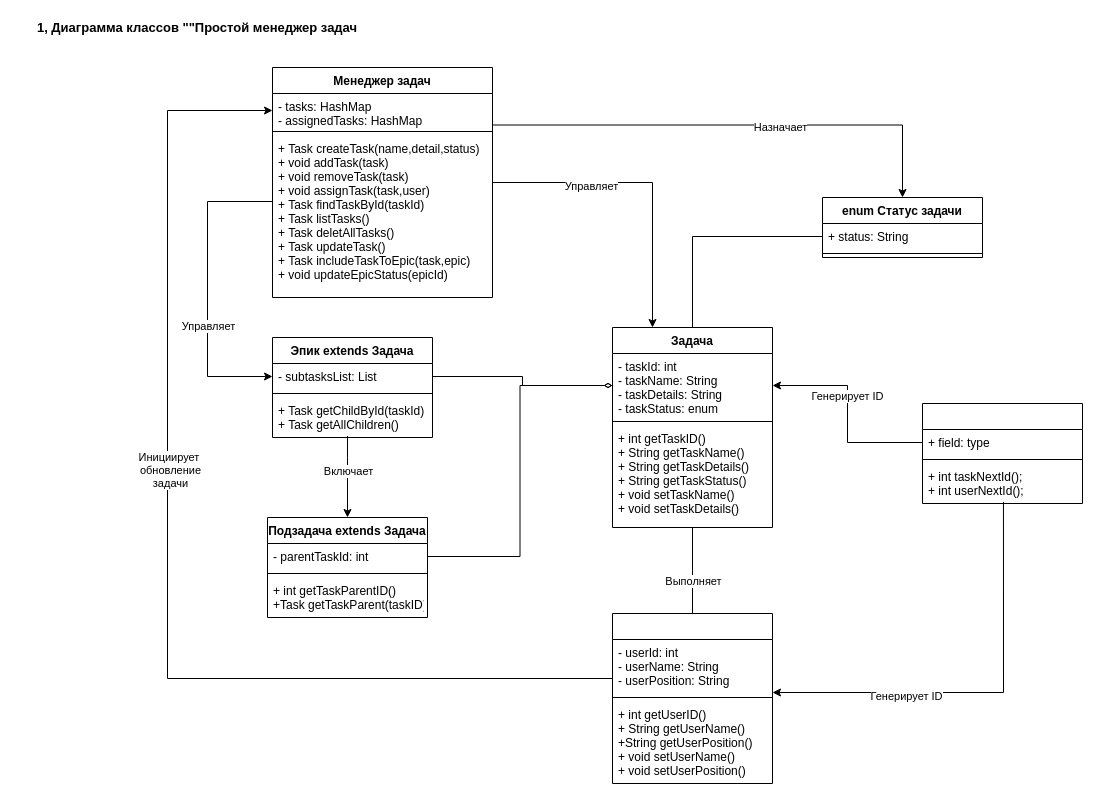
This 1100x803 diagram has some shape labels left out. The box of each missing label's shape, as (x1, y1, x2, y2) in pixels:
Генератор ID: (922, 402, 1082, 504)
Пользователь: (612, 612, 772, 784)
